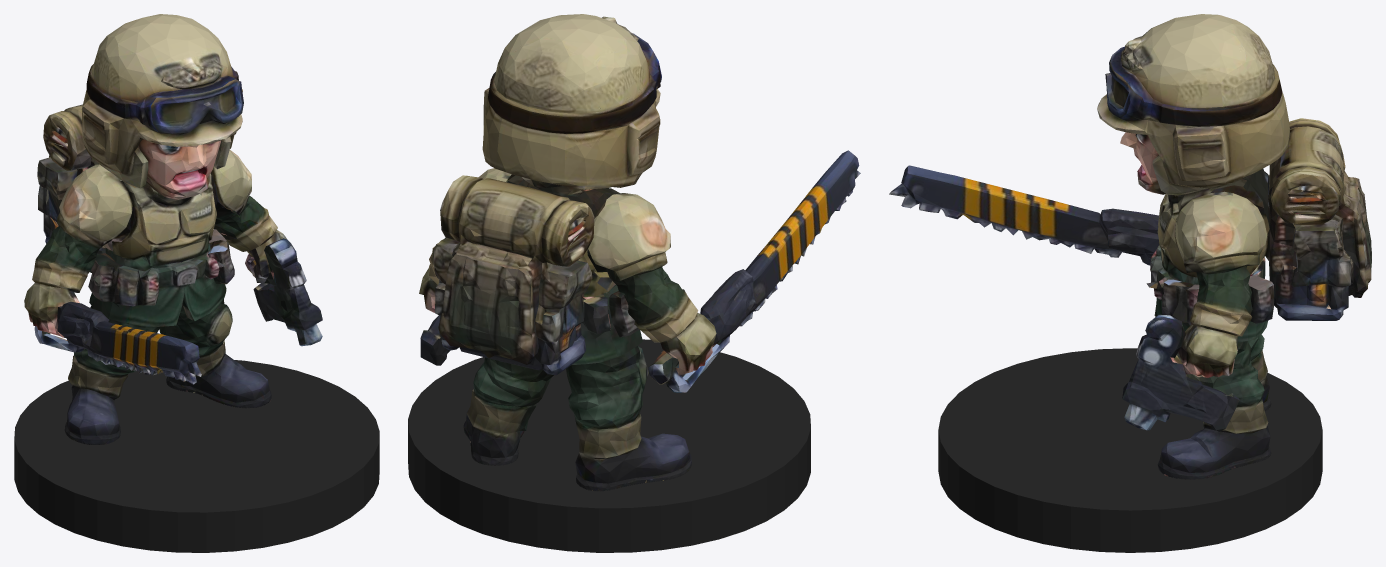
Rendered from cadian-sergeant.glb.
The picture shows the model from 3 angles, left to right: view 1: azimuth 30°, elevation 25°; view 2: azimuth 150°, elevation 25°; view 3: azimuth 270°, elevation 25°; orthographic projection. The views are drawn at different scales.
Parts seen in each view (by area): view 1: figure, base; view 2: figure, base; view 3: figure, base.
Boxes of the visible parts, x1=… form: figure: x1=24, y1=14, x2=322, y2=444; base: x1=14, y1=360, x2=379, y2=552; figure: x1=419, y1=14, x2=860, y2=491; base: x1=408, y1=339, x2=810, y2=552; figure: x1=889, y1=14, x2=1371, y2=479; base: x1=938, y1=348, x2=1322, y2=552.
Size of the model in its own units: 0.9843 by 1.27 by 1.24.
Materials: 2 (1 with a texture image).
